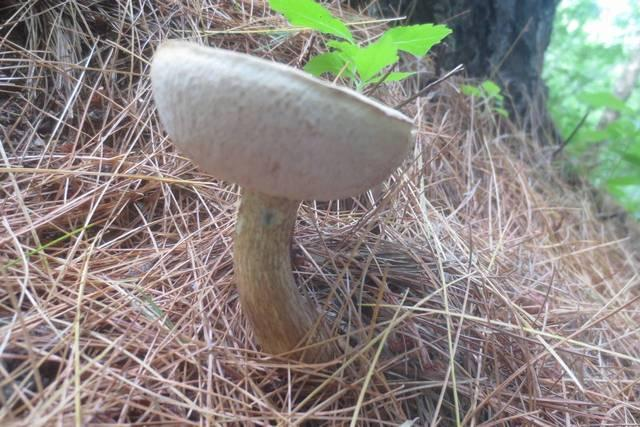Non-edible Mushroom: (148, 37, 418, 364)
